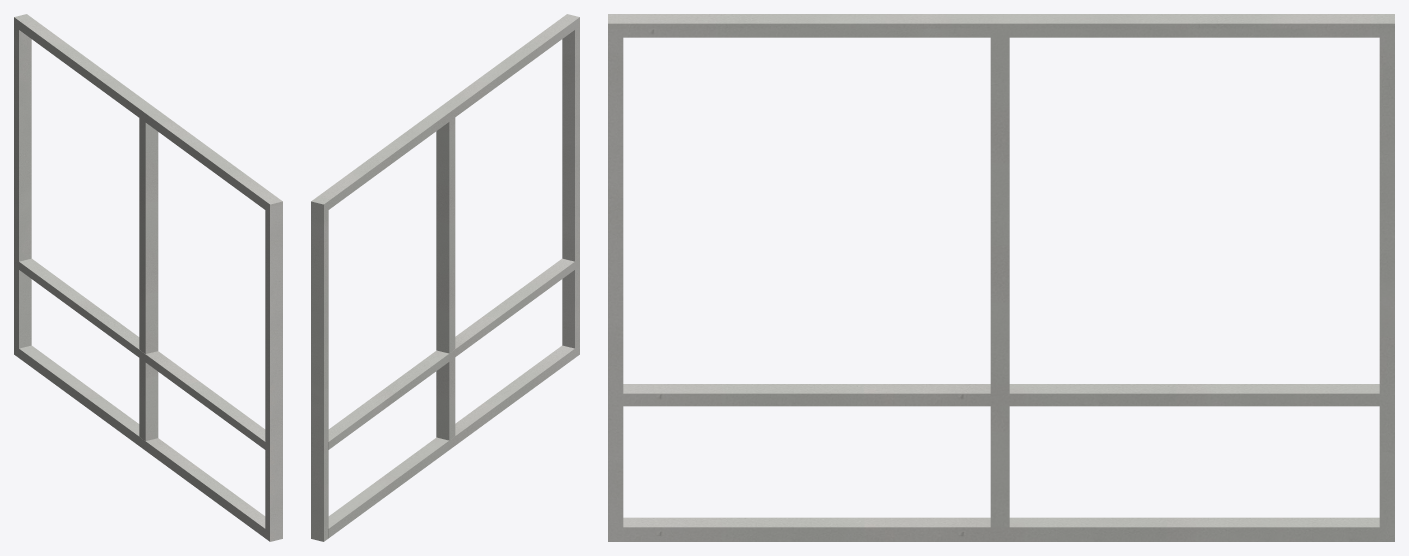
File: window2.fbx
3 renders of one model, left to right at view 1: azimuth 30°, elevation 25°; view 2: azimuth 150°, elevation 25°; view 3: azimuth 270°, elevation 25°, orthographic. The views are drawn at different scales.
Visible parts, largest first — view 1: pCube317; view 2: pCube317; view 3: pCube317.
Boxes of the visible parts, x1,y1,x2,y2 form: pCube317: (14,14,282,541); pCube317: (311,14,579,541); pCube317: (608,14,1394,541).
Bounding box in the file's own units: 0.0732 × 1.84 × 2.54.
